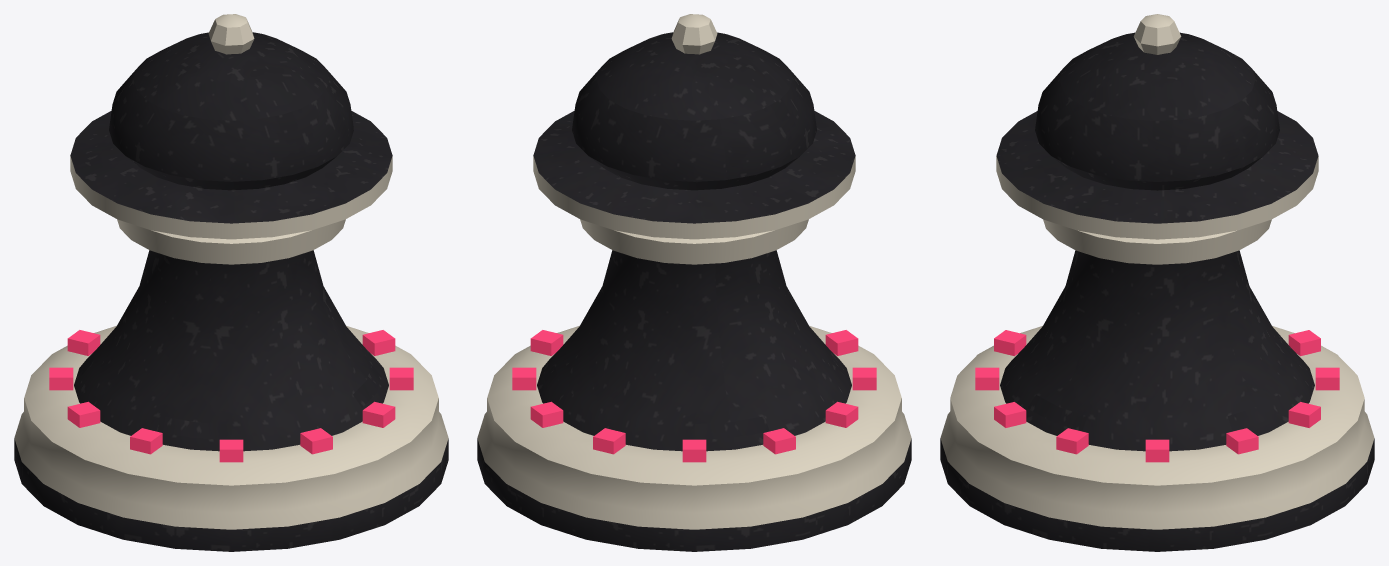
Rendered from pawn_dark.glb.
3 renders of one model, left to right at view 1: azimuth 30°, elevation 25°; view 2: azimuth 150°, elevation 25°; view 3: azimuth 270°, elevation 25°, orthographic.
Parts seen in each view (by area): view 1: Piece_Pawn_Dark_Mesh; view 2: Piece_Pawn_Dark_Mesh; view 3: Piece_Pawn_Dark_Mesh.
Part boxes in pixels (x1,y1,x2,y2): Piece_Pawn_Dark_Mesh: [14, 14, 448, 551]; Piece_Pawn_Dark_Mesh: [477, 14, 911, 551]; Piece_Pawn_Dark_Mesh: [940, 14, 1374, 551].
Size of the model in its own units: 0.62 by 0.702 by 0.62.
3 materials, 1 textured.
